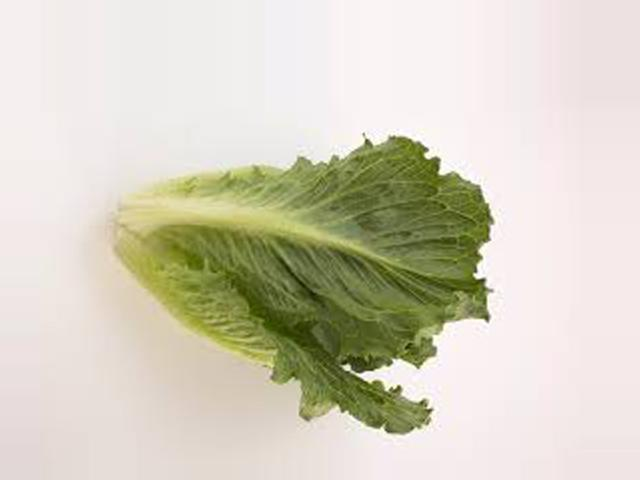lettuce: (57, 121, 559, 431)
